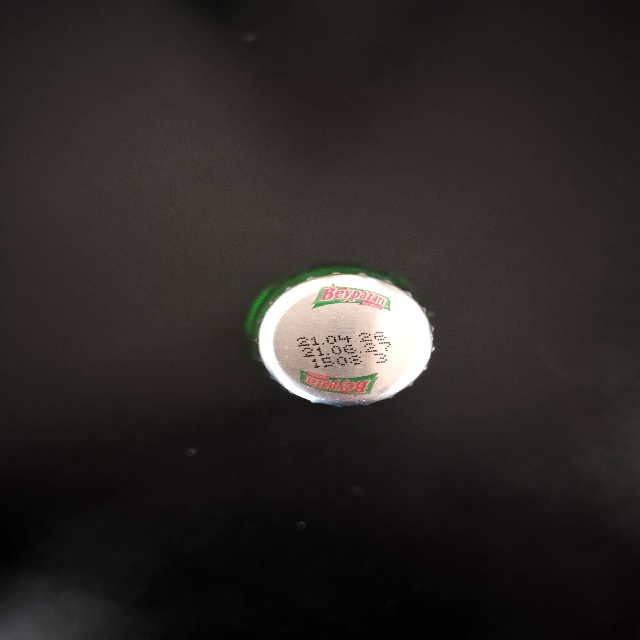beypazari_maden_suyu: (246, 273, 432, 405)
